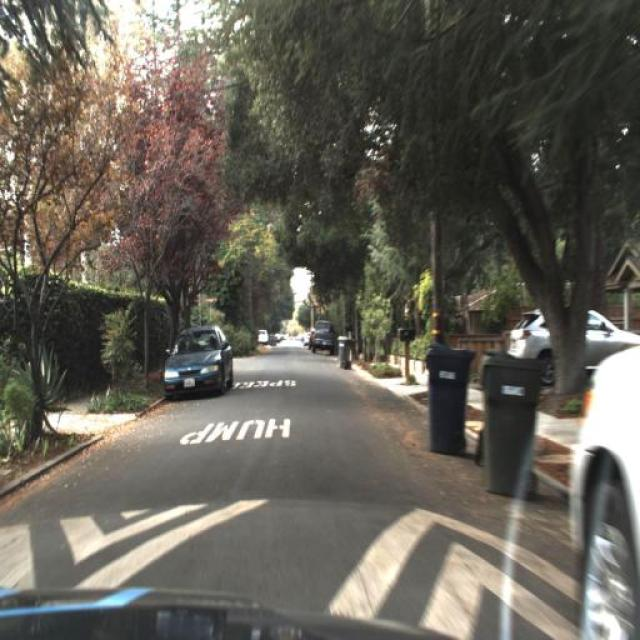car: (567, 340, 639, 640), (483, 294, 639, 371), (503, 298, 636, 388), (160, 318, 242, 402), (308, 317, 339, 354), (256, 329, 272, 350)
